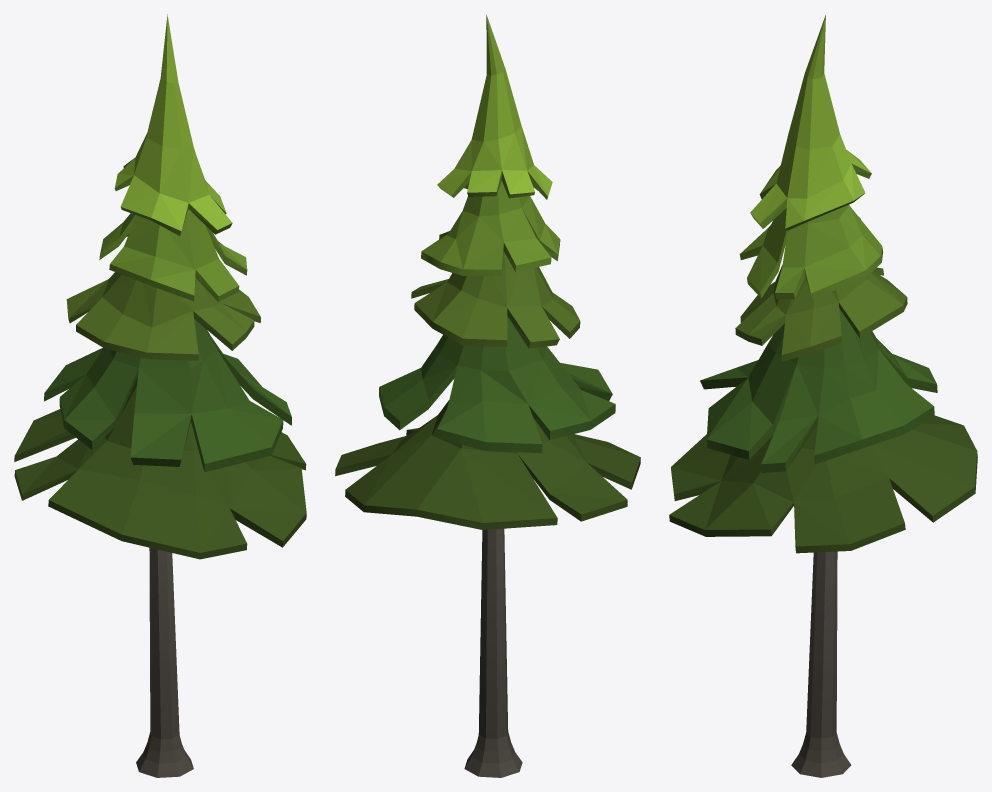
The model's file is ZLP_Plant_K_6.FBX.
3 renders of one model, left to right at view 1: azimuth 30°, elevation 25°; view 2: azimuth 150°, elevation 25°; view 3: azimuth 270°, elevation 25°, orthographic.
Visible parts, largest first — view 1: ZLP_Plant_K_6; view 2: ZLP_Plant_K_6; view 3: ZLP_Plant_K_6.
Part boxes in pixels (x1,y1,x2,y2): ZLP_Plant_K_6: [14, 14, 306, 777]; ZLP_Plant_K_6: [335, 14, 640, 777]; ZLP_Plant_K_6: [669, 15, 977, 777].
Bounding box in the file's own units: 249 × 649 × 241.
